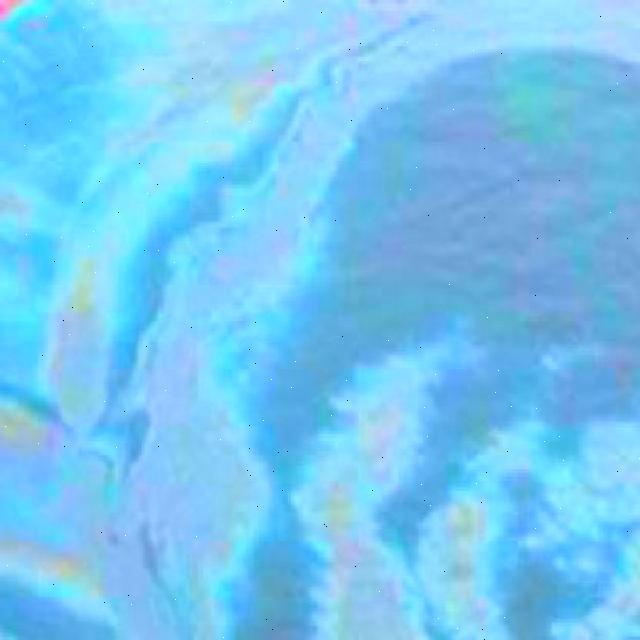oil: (4, 87, 366, 640), (397, 347, 639, 640), (6, 1, 640, 76)
